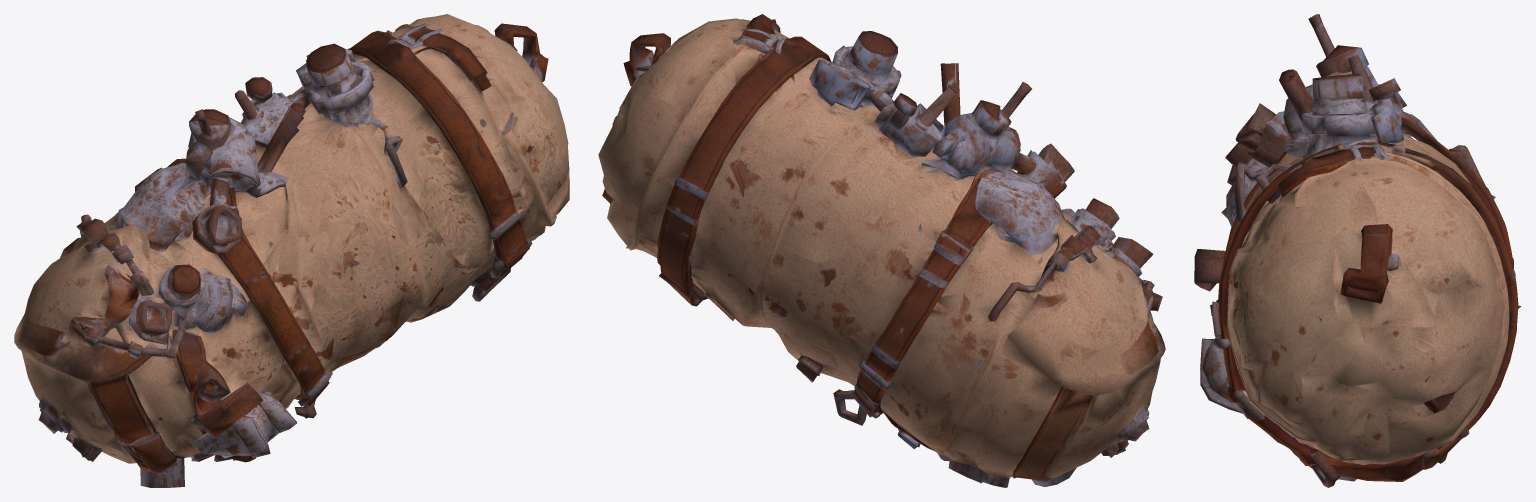
The model's file is StitchesBag.glb.
The picture shows the model from 3 angles, left to right: view 1: azimuth 30°, elevation 25°; view 2: azimuth 150°, elevation 25°; view 3: azimuth 270°, elevation 25°; orthographic projection. The views are drawn at different scales.
Parts seen in each view (by area): view 1: Mesh_0; view 2: Mesh_0; view 3: Mesh_0.
Part boxes in pixels (<box>): Mesh_0: <box>14,14,569,487</box>; Mesh_0: <box>598,14,1165,487</box>; Mesh_0: <box>1194,14,1521,487</box>.
Bounding box in the file's own units: 1.91 × 1.39 × 0.882.
Materials: 1 (1 with a texture image).
